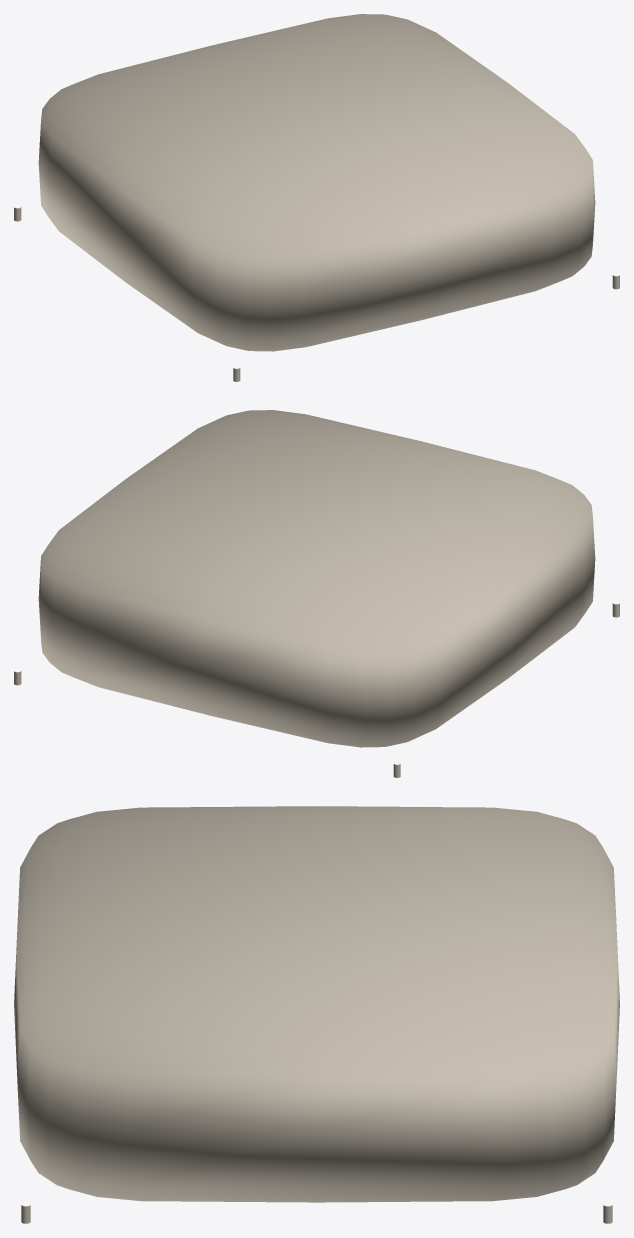
The model's file is ikea-gronlid-40384946-g2-proxy.glb.
3 renders of one model, top to bottom at view 1: azimuth 30°, elevation 25°; view 2: azimuth 150°, elevation 25°; view 3: azimuth 270°, elevation 25°, orthographic. The views are drawn at different scales.
Parts seen in each view (by area): view 1: proxy_body; view 2: proxy_body; view 3: proxy_body.
Boxes of the visible parts, <box> form: proxy_body: <box>38,14,595,351</box>; proxy_body: <box>38,410,595,747</box>; proxy_body: <box>14,806,619,1202</box>.
Bounding box in the file's own units: 2.53 × 0.87 × 2.53.
